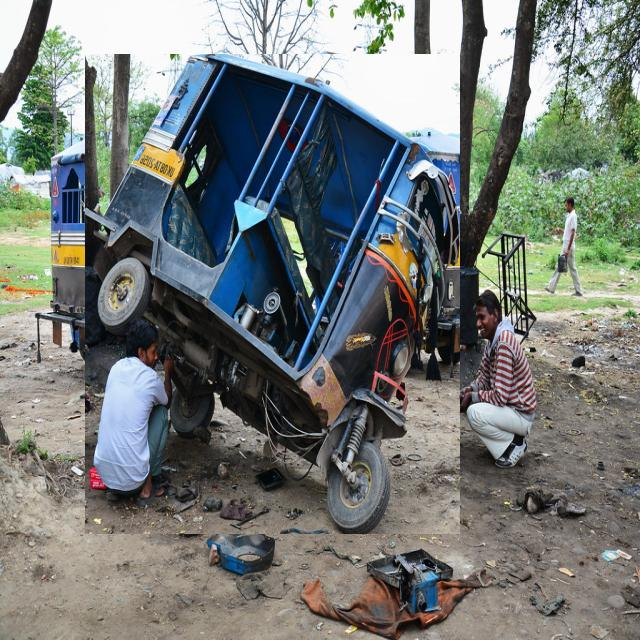autorickshaw: (85, 55, 460, 534)
